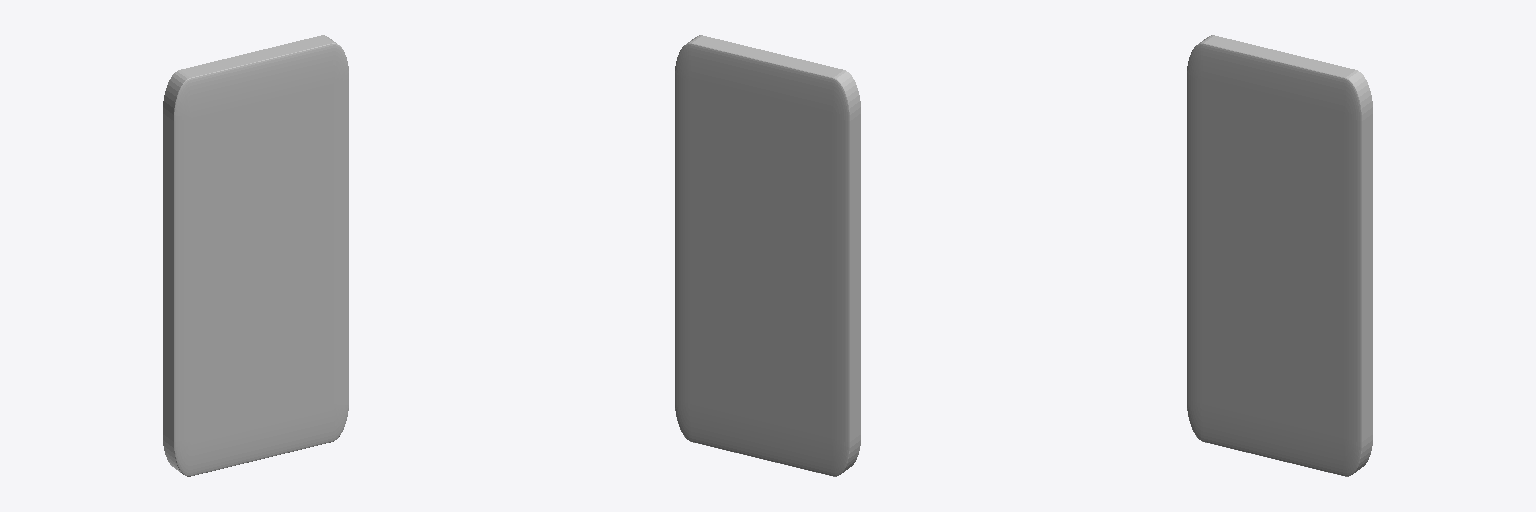
3 views of the same model, side by side, from view 1: azimuth 30°, elevation 25°; view 2: azimuth 150°, elevation 25°; view 3: azimuth 330°, elevation 25° (orthographic).
Parts seen in each view (by area): view 1: obj_0; view 2: obj_0; view 3: obj_0.
Part boxes in pixels (x1,y1,x2,y2): obj_0: (163,35,348,476); obj_0: (675,35,860,476); obj_0: (1187,35,1372,476).
Bounding box in the file's own units: 30 × 65 × 4.